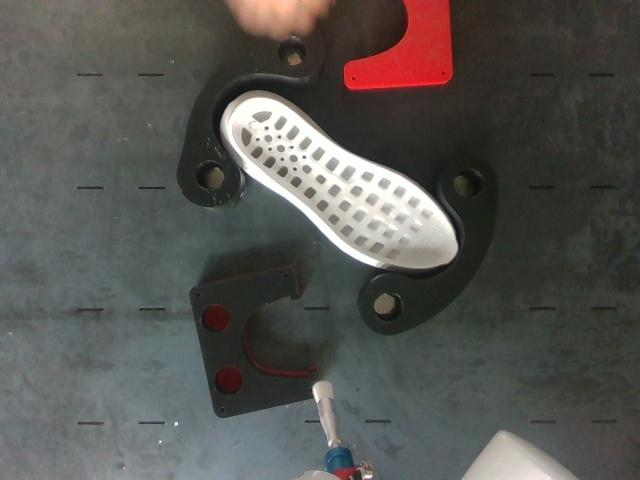shoes: (232, 99, 457, 268)
